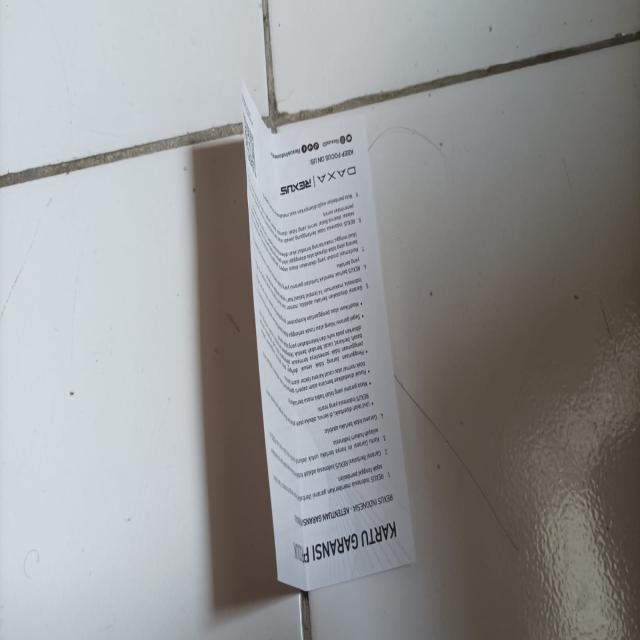Organik: (242, 81, 414, 593)
